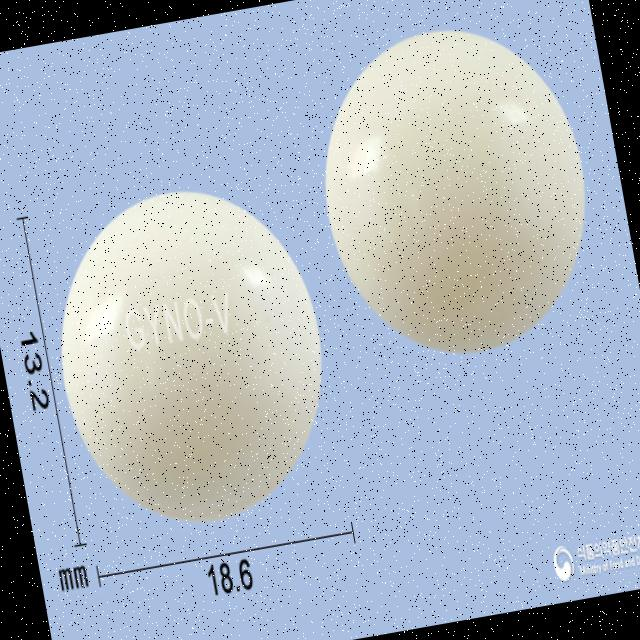Gyno-V Vaginal Soft Cap: (33, 165, 350, 540), (298, 9, 611, 373)
